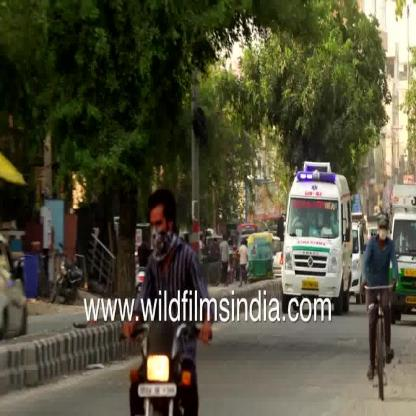priority: (278, 152, 353, 312)
